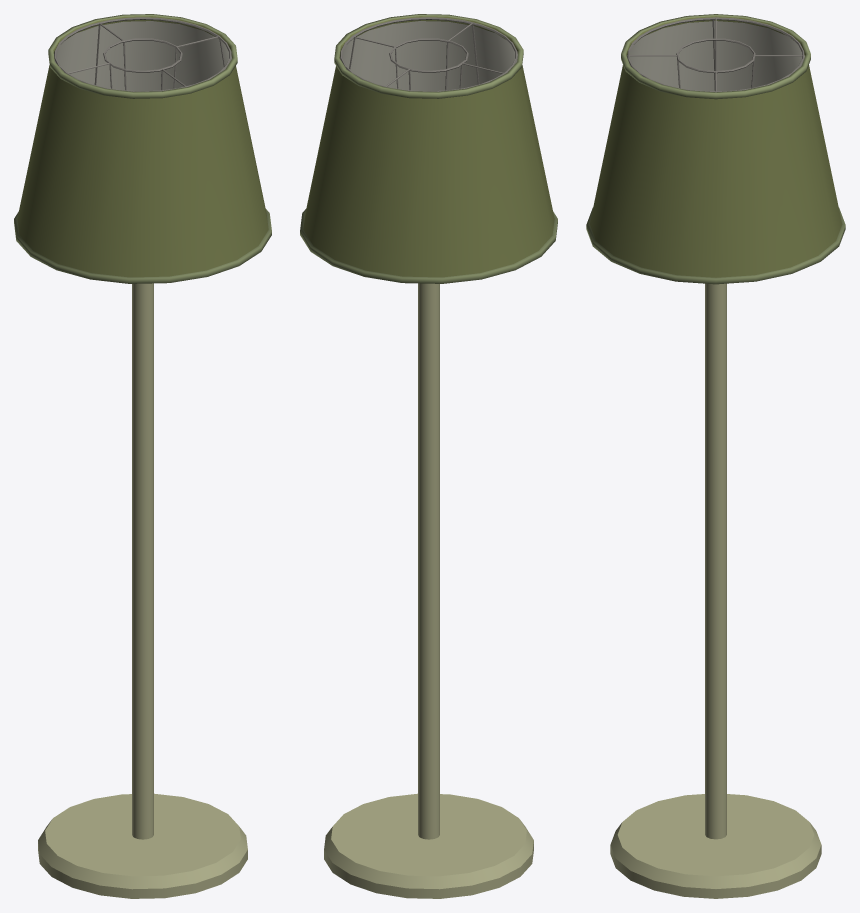
The model's file is Lamp.fbx.
The picture shows the model from 3 angles, left to right: view 1: azimuth 30°, elevation 25°; view 2: azimuth 150°, elevation 25°; view 3: azimuth 270°, elevation 25°; orthographic projection.
Parts seen in each view (by area): view 1: Lampshade, Lamp, Lampshade_Frame; view 2: Lampshade, Lamp, Lampshade_Frame; view 3: Lampshade, Lamp, Lampshade_Frame.
Part boxes in pixels (<box>): Lampshade: <box>14,14,271,283</box>; Lamp: <box>38,283,247,898</box>; Lampshade_Frame: <box>54,17,231,91</box>; Lampshade: <box>300,14,557,283</box>; Lamp: <box>324,283,533,898</box>; Lampshade_Frame: <box>340,17,517,91</box>; Lampshade: <box>586,14,845,284</box>; Lamp: <box>610,283,821,898</box>; Lampshade_Frame: <box>627,17,804,92</box>.
Bounding box in the file's own units: 73.24 × 250 × 73.24.
